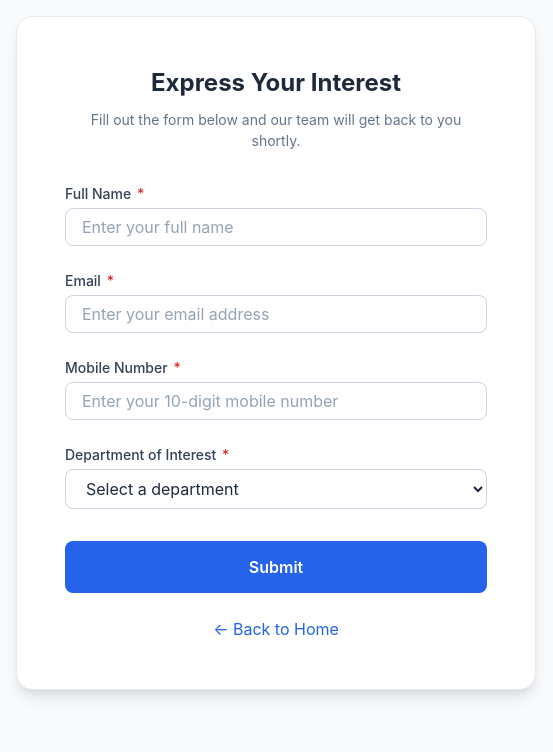
InterestForm › shows validation errors for empty required fields › shows all validation errors when submitting empty form
This screenshot has width=553, height=752.
Click the button "Submit": (276, 567) [65,541,487,593]
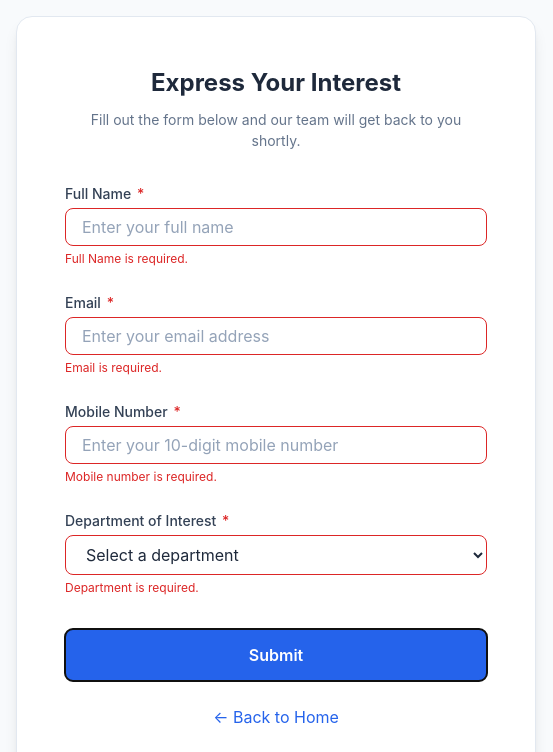
Now the text "Full Name is required." is shown, box [65,251,188,266]
Now the text "Email is required." is shown, box [65,360,162,375]
Now the text "Mobile number is required." is shown, box [65,469,217,484]
